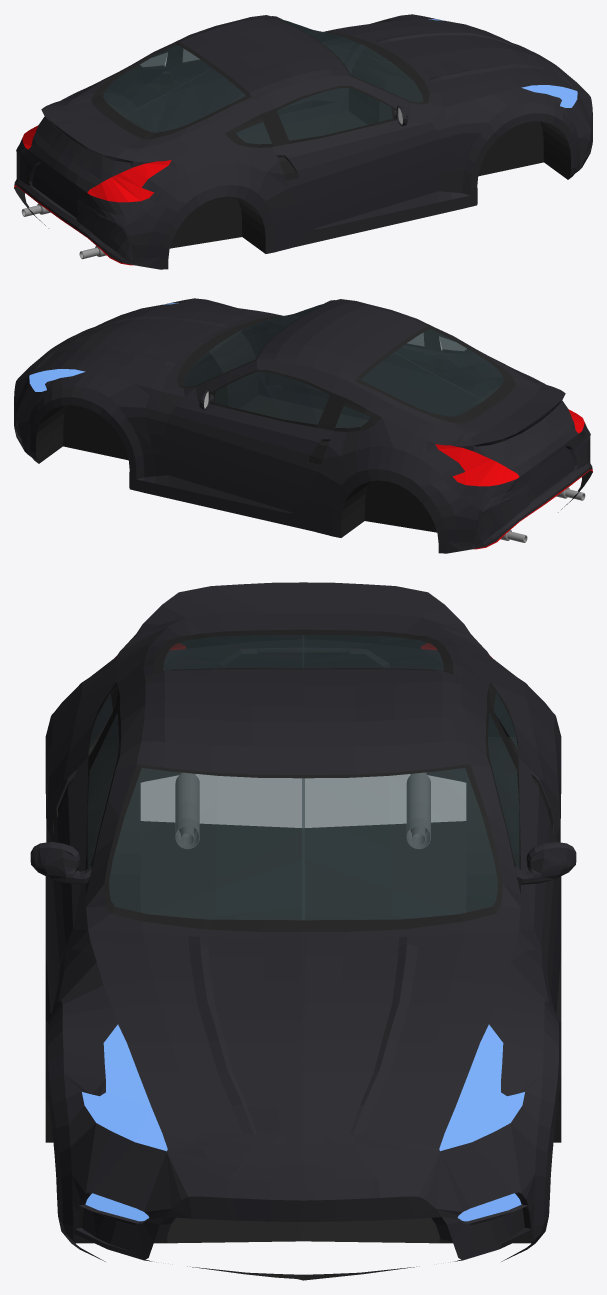
The picture shows the model from 3 angles, top to bottom: view 1: azimuth 30°, elevation 25°; view 2: azimuth 150°, elevation 25°; view 3: azimuth 270°, elevation 25°; orthographic projection. The views are drawn at different scales.
Visible parts, largest first — view 1: 370z; view 2: 370z; view 3: 370z.
Boxes of the visible parts, bbox=[...] form: 370z: bbox=[14, 14, 592, 269]; 370z: bbox=[14, 298, 592, 553]; 370z: bbox=[30, 582, 576, 1280].
Bounding box in the file's own units: 4.25 × 1.17 × 1.94.
